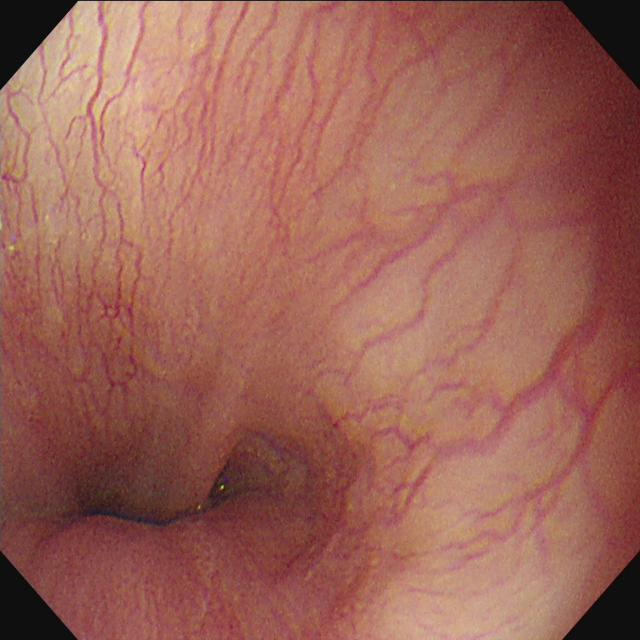E: (71, 449, 246, 543)
